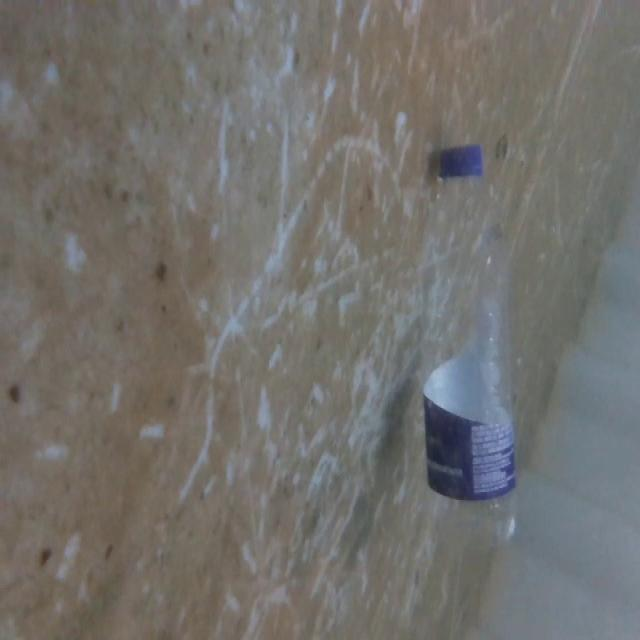plastic bottle: (413, 130, 541, 566)
